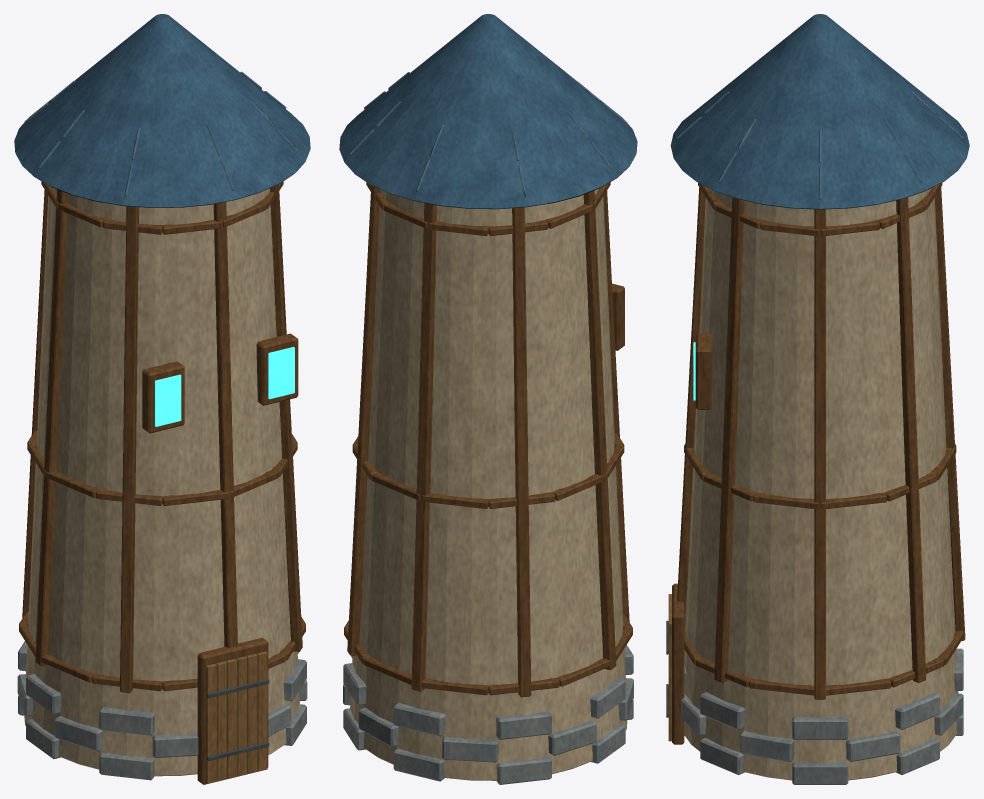
Rendered from windmill.glb.
3 renders of one model, left to right at view 1: azimuth 30°, elevation 25°; view 2: azimuth 150°, elevation 25°; view 3: azimuth 270°, elevation 25°, orthographic.
Parts seen in each view (by area): view 1: Windmill_Mesh; view 2: Windmill_Mesh; view 3: Windmill_Mesh.
Boxes of the visible parts, left/top/right/bottom form: Windmill_Mesh: left=14, top=14, right=310, bottom=784; Windmill_Mesh: left=339, top=14, right=637, bottom=784; Windmill_Mesh: left=666, top=14, right=969, bottom=784.
Bounding box in the file's own units: 3.85 × 10.13 × 3.91.
1 material, 1 textured.
